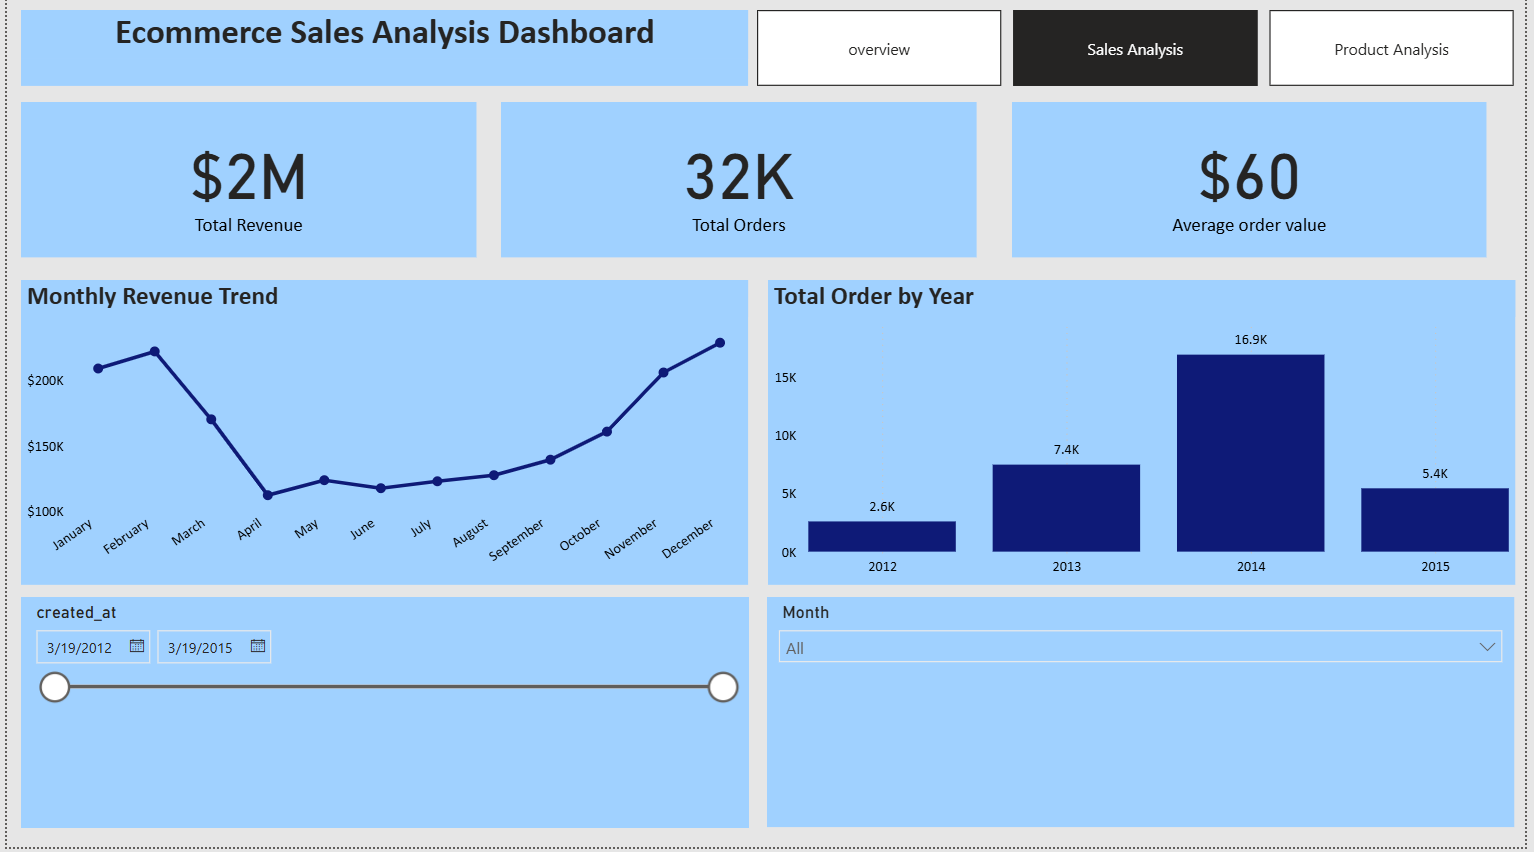

Layout of this report page (visuals, bound fields, positions):
{"tool":"powerbi","page":{"name":"Sales Analysis","canvas":[1280,720],"ordinal":1},"visuals":[{"type":"textbox","title":"Ecommerce Sales Analysis  Dashboard","box":[11.6,14.3,613.4,64.5],"z":0},{"type":"lineChart","title":"Monthly Revenue Trend","fields":{"Category":["Order items.created_at.Variation.Date Hierarchy.Month"],"Y":["Order items.Total Revenue"]},"box":[11.6,241.8,613.4,257],"z":1000},{"type":"clusteredColumnChart","title":"Total Order by Year","fields":{"Y":["Order items.Total Orders"],"Category":["Order items.created_at.Variation.Date Hierarchy.Year"]},"box":[641.2,241.8,629.6,257],"z":2000},{"type":"slicer","fields":{"Values":["Order items.created_at.Variation.Date Hierarchy.Month"]},"box":[641,509,630,194],"z":4000},{"type":"card","fields":{"Values":["Order items.Total Revenue"]},"box":[11.6,92.2,384.2,130.7],"z":5000},{"type":"card","fields":{"Values":["Order items.Total Orders"]},"box":[416.4,92.2,401.2,130.7],"z":6000},{"type":"pageNavigator","box":[632.2,14.3,639.4,64.5],"z":7000},{"type":"card","fields":{"Values":["Order items.Average order value"]},"box":[847.2,92.2,400.3,130.7],"z":8000},{"type":"slicer","fields":{"Values":["Order items.created_at"]},"box":[12,509,613,194],"z":8001}]}

Visuals, with their boxes in screenshot pixels (x1, y1, x2, y2), scaled from the page's 1280x720 canvas onto the 1534x852 screenshot:
"Ecommerce Sales Analysis  Dashboard" textbox: x1=14, y1=17, x2=749, y2=93
"Monthly Revenue Trend" lineChart: x1=14, y1=286, x2=749, y2=590
"Total Order by Year" clusteredColumnChart: x1=768, y1=286, x2=1523, y2=590
slicer - Order items.created_at.Variation.Date Hierarchy.Month: x1=768, y1=602, x2=1523, y2=832
card - Order items.Total Revenue: x1=14, y1=109, x2=474, y2=264
card - Order items.Total Orders: x1=499, y1=109, x2=980, y2=264
pageNavigator: x1=758, y1=17, x2=1524, y2=93
card - Order items.Average order value: x1=1015, y1=109, x2=1495, y2=264
slicer - Order items.created_at: x1=14, y1=602, x2=749, y2=832
